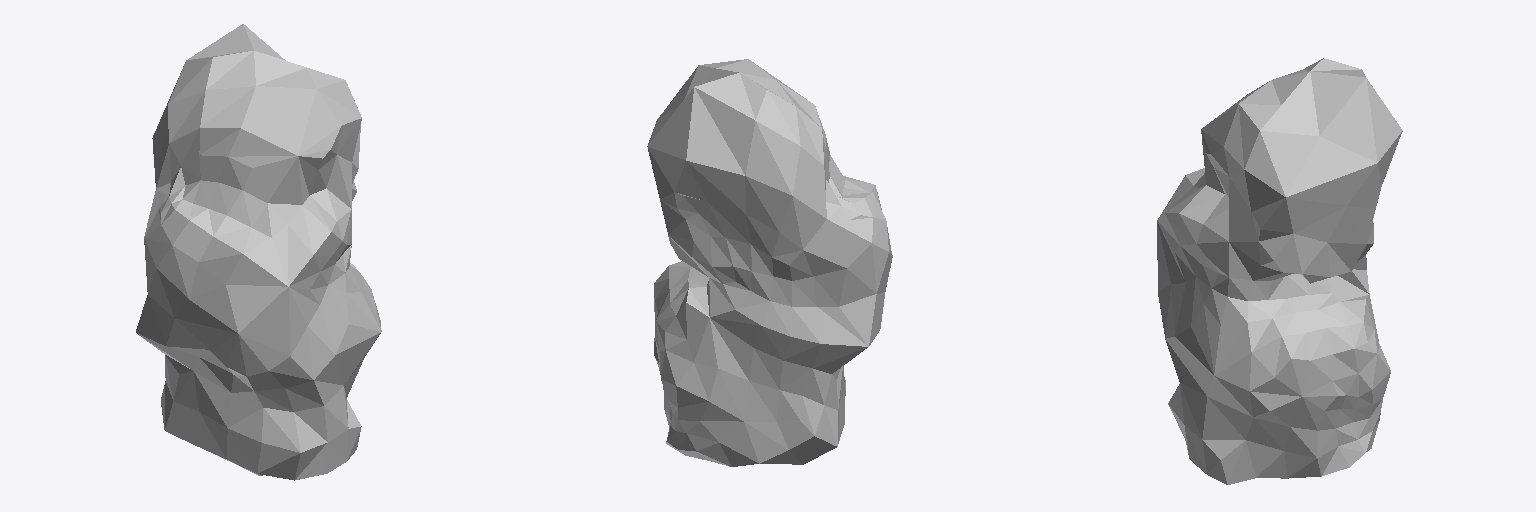
The model's file is Piedra4.obj.
The picture shows the model from 3 angles: view 1: azimuth 30°, elevation 25°; view 2: azimuth 150°, elevation 25°; view 3: azimuth 270°, elevation 25°; orthographic projection.
Visible parts, largest first — view 1: g_Box001.004_meshId0_name.009; view 2: g_Box001.004_meshId0_name.009; view 3: g_Box001.004_meshId0_name.009.
Part boxes in pixels (x1,y1,x2,y2): g_Box001.004_meshId0_name.009: (136, 24, 381, 480); g_Box001.004_meshId0_name.009: (647, 59, 892, 466); g_Box001.004_meshId0_name.009: (1157, 58, 1402, 484).
Size of the model in its own units: 3.78 by 6.31 by 3.63.